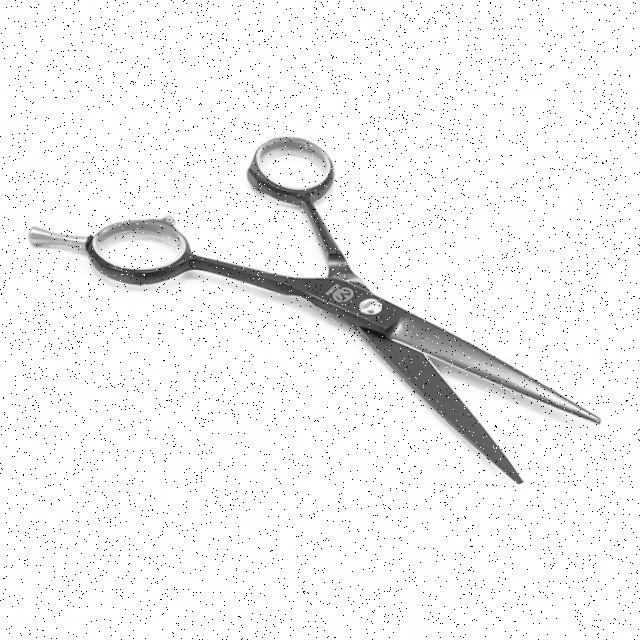scissors: (27, 130, 605, 490)
